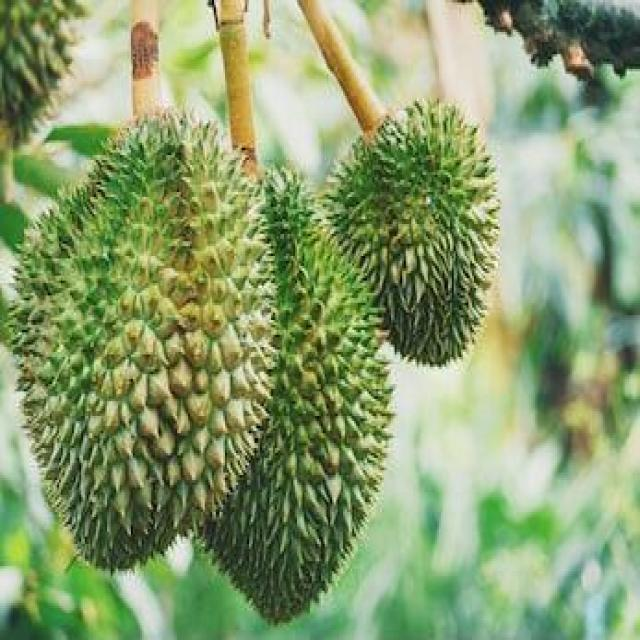immature: (8, 103, 280, 575), (193, 170, 399, 624), (315, 92, 503, 368)
